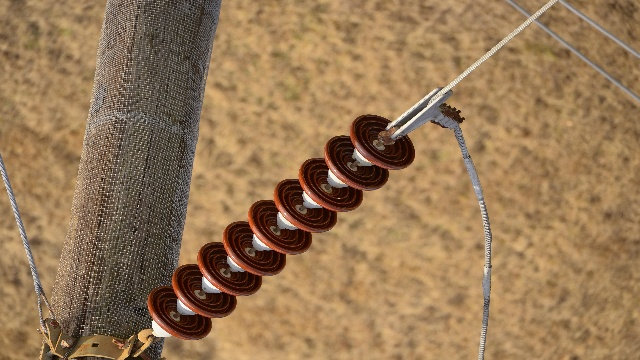insulator_unspecified: (145, 114, 416, 339)
